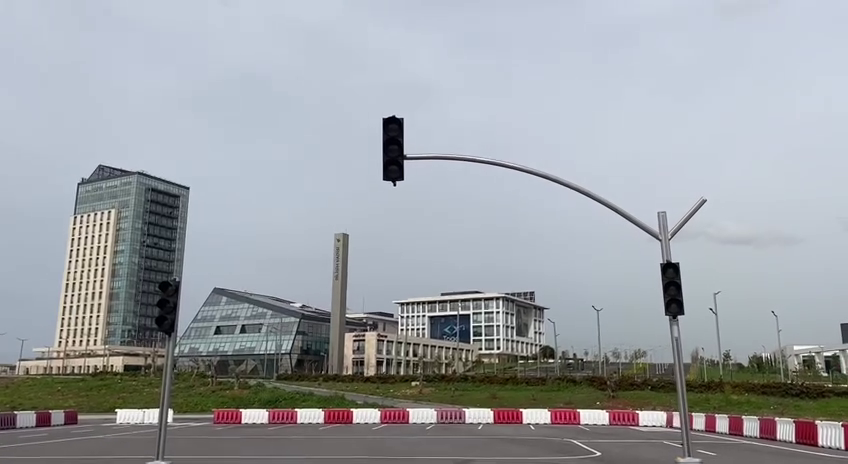trafficLight: (377, 111, 409, 189), (152, 275, 183, 340), (657, 256, 688, 320)
